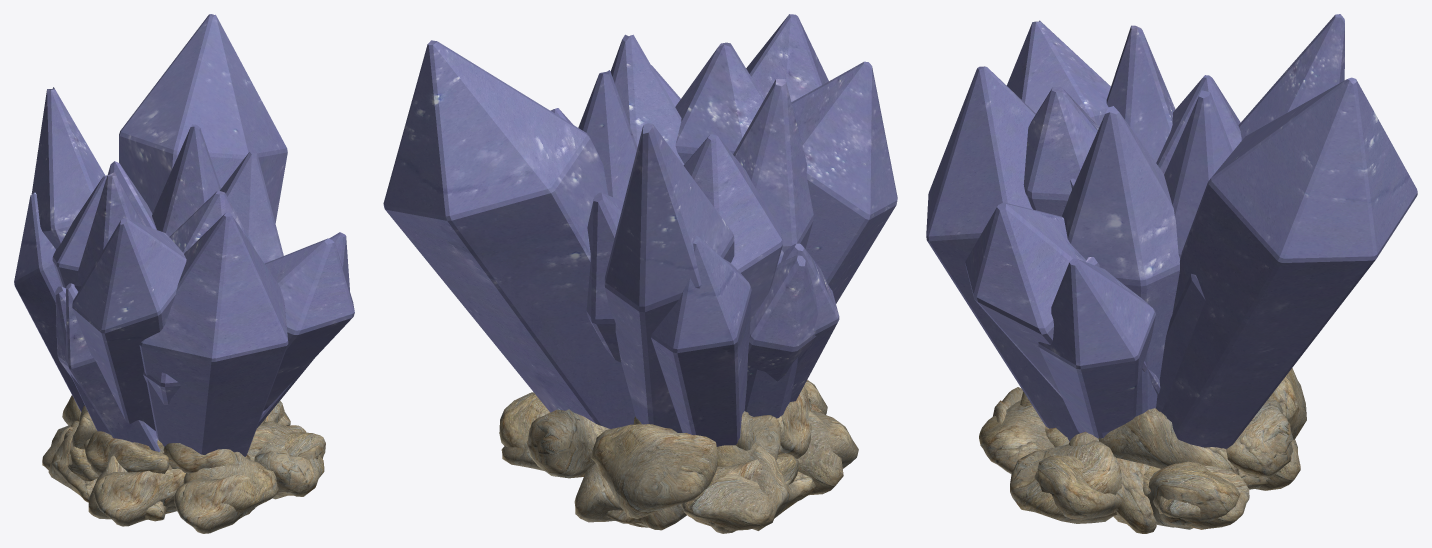
The model's file is Crystal.gltf.
The picture shows the model from 3 angles, left to right: view 1: azimuth 30°, elevation 25°; view 2: azimuth 150°, elevation 25°; view 3: azimuth 270°, elevation 25°; orthographic projection. The views are drawn at different scales.
Parts seen in each view (by area): view 1: crystal_2_bevel, crystal_1_bevel, crystal_4_bevel, crystal_5_bevel, rocks_3, rocks_2, crystal_3_bevel, rocks_5, crystal_6_bevel, rocks_1, rocks_4; view 2: crystal_2_bevel, crystal_1_bevel, crystal_5_bevel, rocks_5, crystal_4_bevel, crystal_3_bevel, rocks_2, crystal_6_bevel, rocks_3, rocks_1, rocks_4; view 3: crystal_2_bevel, crystal_4_bevel, crystal_3_bevel, crystal_5_bevel, rocks_5, rocks_2, crystal_1_bevel, rocks_3, crystal_6_bevel, rocks_4, rocks_1.
Boxes of the visible parts, x1,y1,x2,y2 form: crystal_2_bevel: (14,14,349,456); crystal_1_bevel: (52,175,186,430); crystal_4_bevel: (55,190,354,410); crystal_5_bevel: (31,87,220,249); rocks_3: (48,427,325,526); rocks_2: (42,401,324,533); crystal_3_bevel: (71,151,283,434); rocks_5: (62,395,265,475); crystal_6_bevel: (74,172,142,291); rocks_1: (64,420,274,506); rocks_4: (165,412,290,513); crystal_2_bevel: (383,14,839,446); crystal_1_bevel: (683,61,897,320); crystal_5_bevel: (578,70,734,432); rocks_5: (527,386,811,518); crystal_4_bevel: (651,42,817,383); crystal_3_bevel: (586,34,797,418); rocks_2: (499,380,843,530); crystal_6_bevel: (733,78,813,252); rocks_3: (636,404,858,530); rocks_1: (574,453,798,533); rocks_4: (501,413,647,527); crystal_2_bevel: (926,66,1417,448); crystal_4_bevel: (965,86,1205,411); crystal_3_bevel: (1062,106,1179,438); crystal_5_bevel: (1164,14,1344,258); rocks_5: (1020,368,1306,477); rocks_2: (993,387,1268,529); crystal_1_bevel: (1007,20,1241,394); rocks_3: (979,400,1160,520); crystal_6_bevel: (1070,25,1175,266); rocks_4: (1069,431,1249,530); rocks_1: (1069,432,1300,533).
Size of the model in its own units: 2.47 by 3.25 by 2.96.
2 materials, 2 textured.
